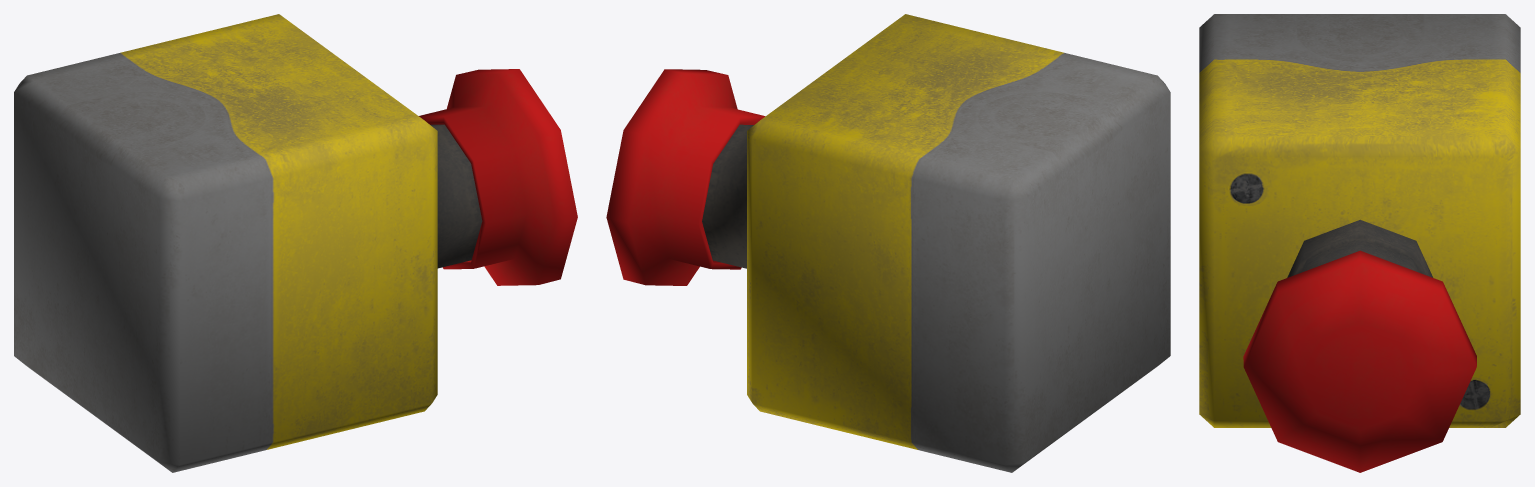
The model's file is lightbutton.glb.
3 views of the same model, side by side, from view 1: azimuth 30°, elevation 25°; view 2: azimuth 150°, elevation 25°; view 3: azimuth 270°, elevation 25° (orthographic).
Visible parts, largest first — view 1: Boitier_0, Bouton_2, PoussoirFrame_1; view 2: Boitier_0, Bouton_2, PoussoirFrame_1; view 3: Boitier_0, Bouton_2, PoussoirFrame_1.
Boxes of the visible parts, x1,y1,x2,y2 form: Boitier_0: [14, 14, 437, 472]; Bouton_2: [419, 69, 577, 285]; PoussoirFrame_1: [430, 124, 482, 268]; Boitier_0: [747, 14, 1170, 472]; Bouton_2: [606, 69, 765, 285]; PoussoirFrame_1: [702, 124, 753, 268]; Boitier_0: [1199, 14, 1520, 427]; Bouton_2: [1243, 250, 1476, 472]; PoussoirFrame_1: [1287, 219, 1433, 277].
Bounding box in the file's own units: 3.35 × 2.07 × 2.07.
Materials: 1 (1 with a texture image).
